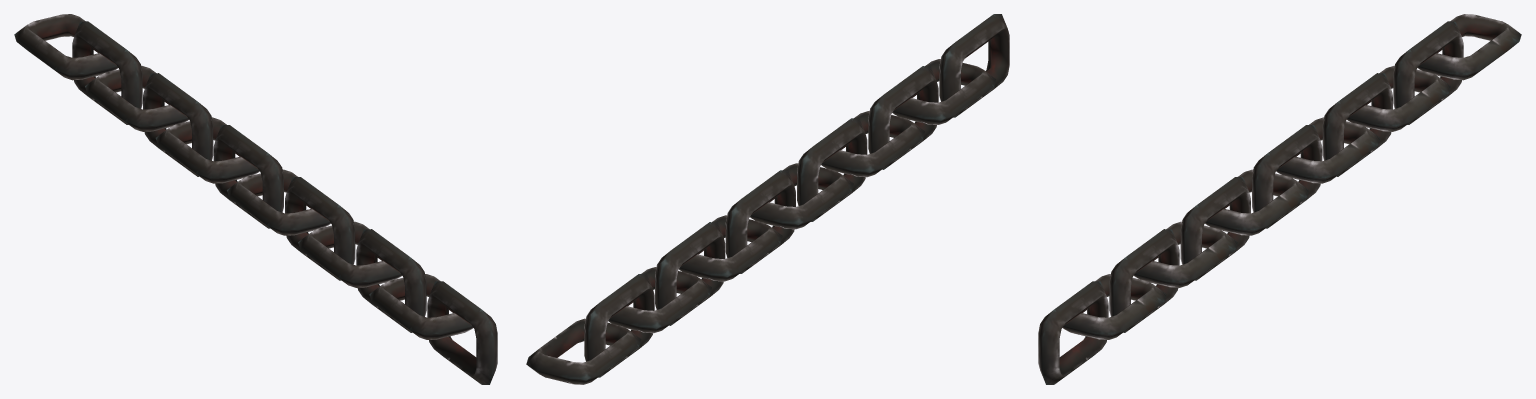
File: tielian_zhide.FBX
The picture shows the model from 3 angles, left to right: view 1: azimuth 30°, elevation 25°; view 2: azimuth 150°, elevation 25°; view 3: azimuth 330°, elevation 25°; orthographic projection.
Parts seen in each view (by area): view 1: Rectangle002; view 2: Rectangle002; view 3: Rectangle002.
Boxes of the visible parts, <box> form: Rectangle002: <box>14,14,497,384</box>; Rectangle002: <box>526,14,1009,384</box>; Rectangle002: <box>1038,14,1521,384</box>.
Size of the model in its own units: 117 by 117 by 1265.
